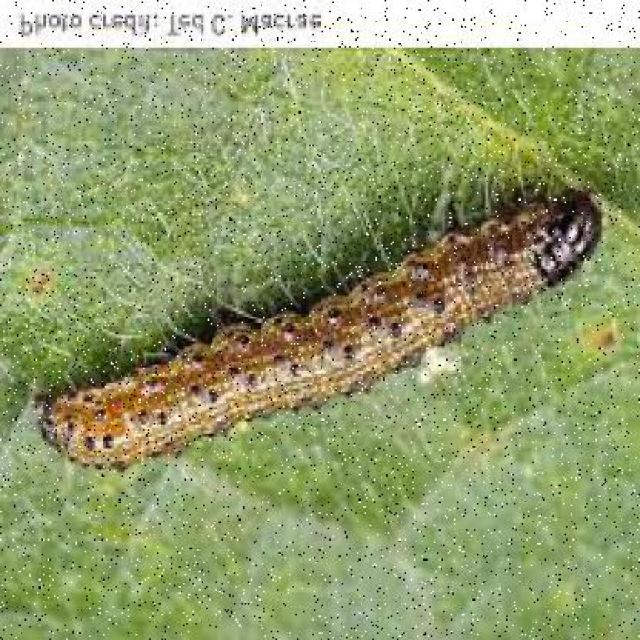Plaga: (11, 169, 622, 523)
